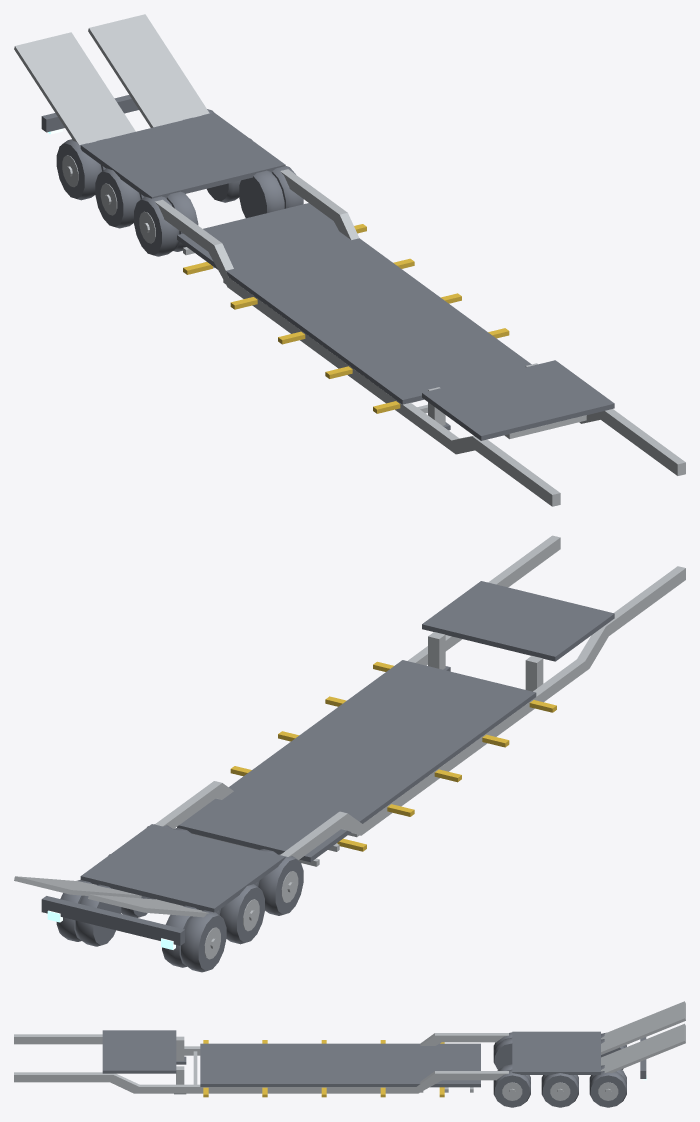
File: ufo-crash-site-and-recovery-facility-low-loader-traile-cb4cb3bc__17348.glb
3 views of the same model, one above another, from view 1: azimuth 30°, elevation 25°; view 2: azimuth 150°, elevation 25°; view 3: azimuth 270°, elevation 25° (orthographic). The views are drawn at different scales.
Visible parts, largest first — view 1: low-loader-trailer, ramp-right, ramp-left, wheel-a-right, wheel-c-left, wheel-a-left, wheel-b-left; view 2: low-loader-trailer, wheel-c-left, wheel-a-left, wheel-b-left, ramp-left, ramp-right, wheel-c-right; view 3: low-loader-trailer, ramp-left, ramp-right, wheel-c-right (×2), wheel-b-right (×2), wheel-a-right (×2), wheel-a-left.
Boxes of the visible parts, bbox=[...] form: low-loader-trailer: bbox=[41, 95, 685, 506]; ramp-right: bbox=[88, 14, 209, 127]; ramp-left: bbox=[14, 32, 135, 144]; wheel-a-right: bbox=[239, 170, 284, 218]; wheel-c-left: bbox=[56, 139, 101, 200]; wheel-a-left: bbox=[134, 196, 179, 256]; wheel-b-left: bbox=[95, 168, 140, 228]; low-loader-trailer: bbox=[41, 535, 685, 949]; wheel-c-left: bbox=[181, 910, 226, 972]; wheel-a-left: bbox=[258, 854, 303, 915]; wheel-b-left: bbox=[219, 884, 264, 944]; ramp-left: bbox=[88, 894, 209, 917]; ramp-right: bbox=[14, 876, 141, 898]; wheel-c-right: bbox=[75, 884, 121, 946]; low-loader-trailer: bbox=[14, 1030, 646, 1097]; ramp-left: bbox=[601, 1001, 685, 1054]; ramp-right: bbox=[601, 1023, 685, 1072]; wheel-c-right (×2): bbox=[589, 1071, 626, 1107]; wheel-b-right (×2): bbox=[541, 1073, 578, 1107]; wheel-a-right (×2): bbox=[493, 1070, 530, 1107]; wheel-a-left: bbox=[493, 1038, 512, 1069].
Bounding box in the file's own units: 3.5 × 1.99 × 18.2.
